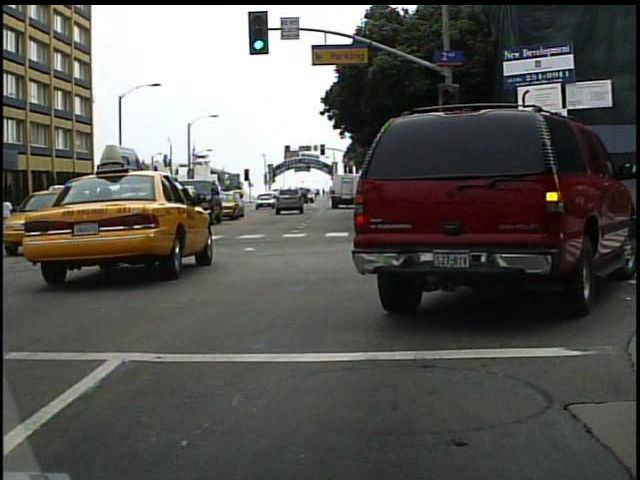person: (3, 192, 19, 228)
